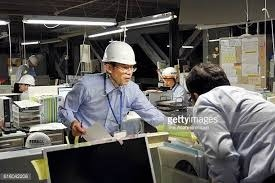helmet: (101, 41, 136, 66), (162, 66, 178, 79)
person with partial safety: (61, 42, 146, 137), (158, 67, 185, 103)
person without safety: (186, 64, 267, 183)
